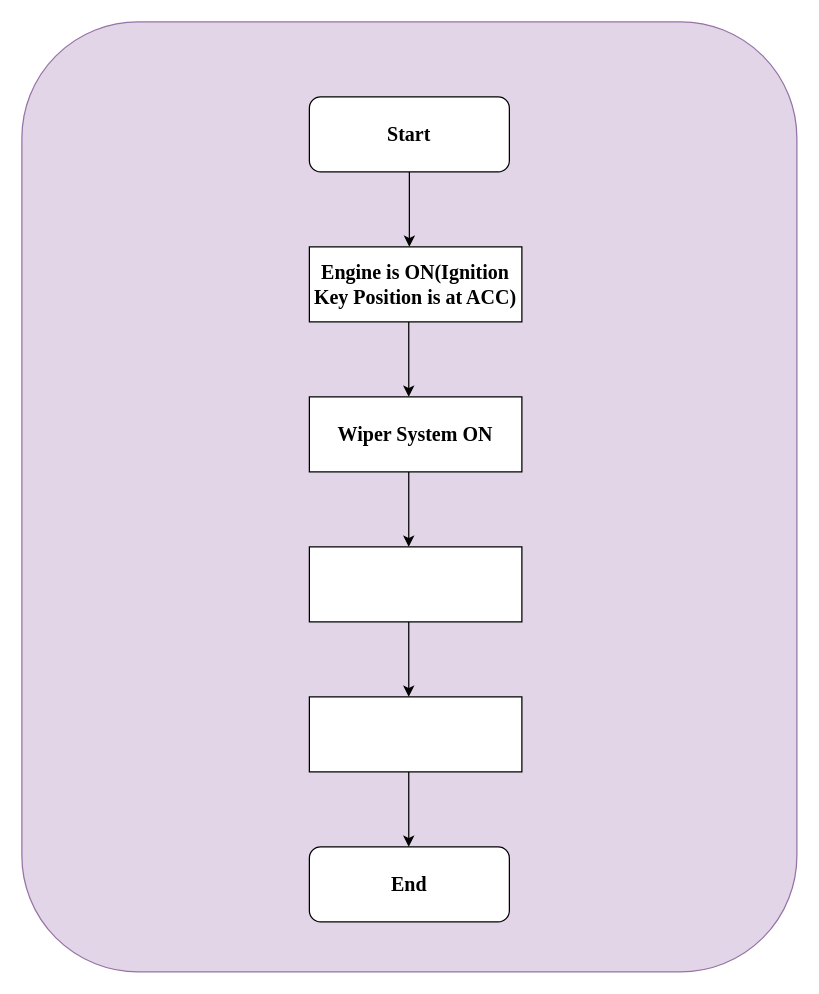
The diagram is 819 pixels wide and 994 high, and some of its shapes have lost their labels. The shapes that lost their labels are listed below. From the top down, each one's centre as x and y in pixels, then its label:
(x=415, y=584): Wiper System OFF
(x=415, y=734): Engine is OFF(Ignition Key Position is at LOCK)
